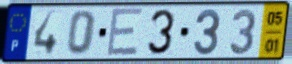0: (66, 9, 97, 58)
3: (145, 8, 179, 58), (227, 6, 258, 57), (192, 7, 221, 57)
4: (32, 9, 60, 58)
E: (105, 6, 145, 59)
